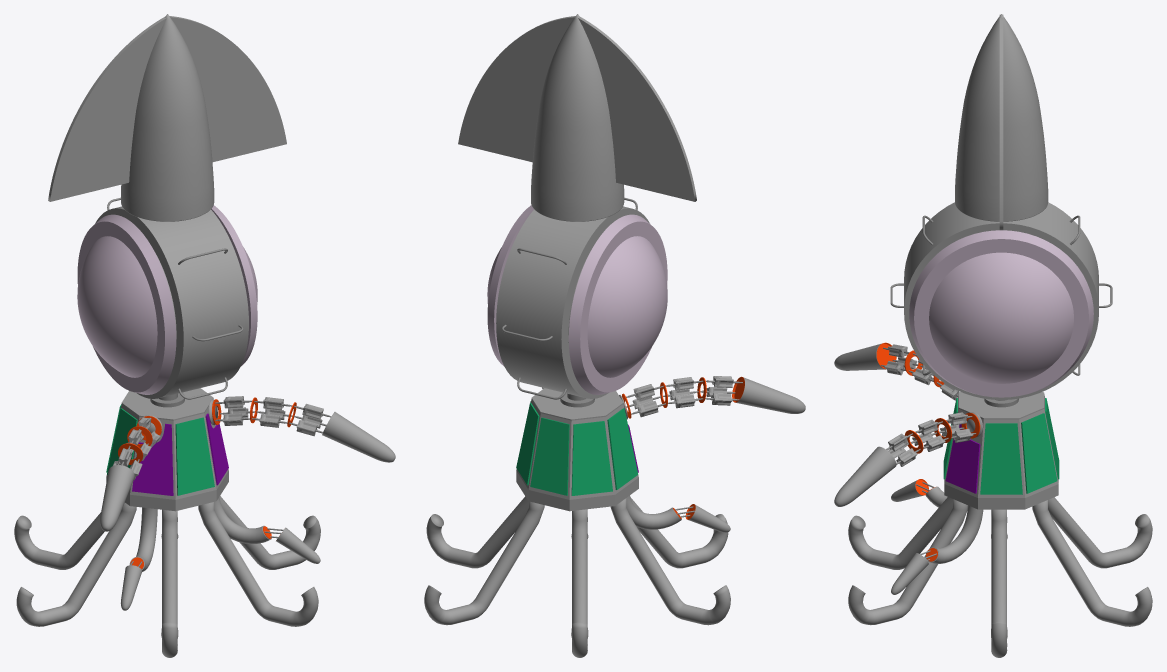
Rendered from ikabo.fbx.
The picture shows the model from 3 angles, left to right: view 1: azimuth 30°, elevation 25°; view 2: azimuth 150°, elevation 25°; view 3: azimuth 270°, elevation 25°; orthographic projection.
Visible parts, largest first — view 1: Circle; view 2: Circle; view 3: Circle.
Part boxes in pixels (left/top/right/bottom): Circle: left=14, top=14, right=395, bottom=657; Circle: left=424, top=14, right=805, bottom=657; Circle: left=834, top=14, right=1152, bottom=657.
Bounding box in the file's own units: 139 × 255 × 127.
